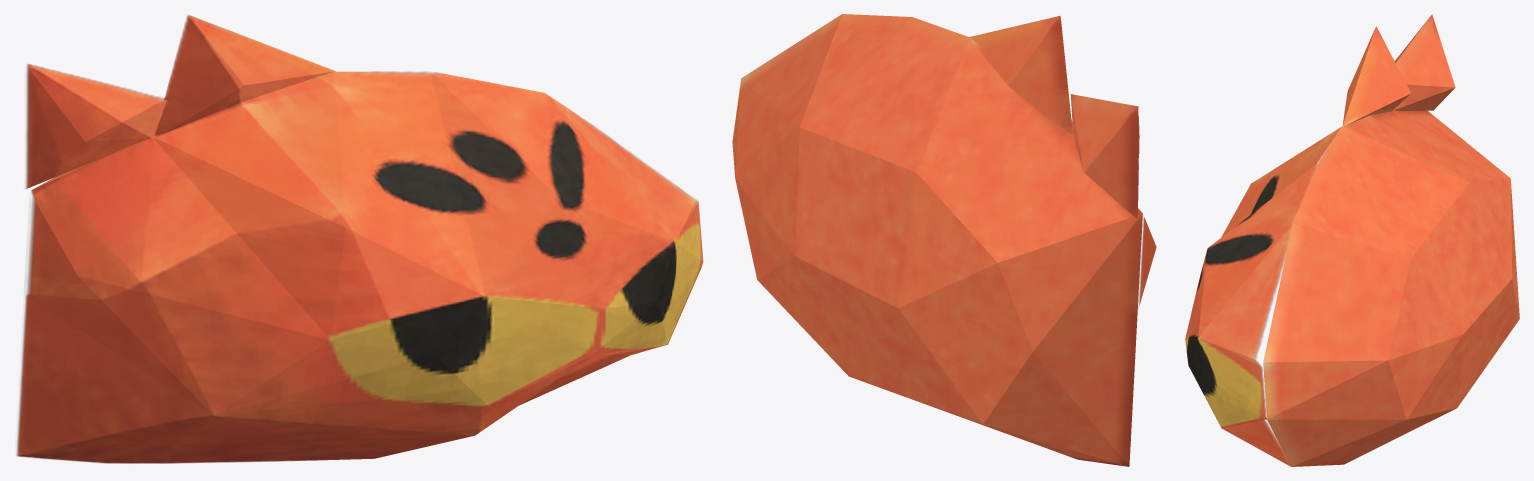
The model's file is manool.glb.
3 renders of one model, left to right at view 1: azimuth 30°, elevation 25°; view 2: azimuth 150°, elevation 25°; view 3: azimuth 270°, elevation 25°, orthographic. The views are drawn at different scales.
Visible parts, largest first — view 1: Head — reference facets, Near ear — reference facets, Upper ear — reference facets; view 2: Head — continuous sculpted back, Upper ear — continuous sculpted back, Near ear — continuous sculpted back, Head — reference facets; view 3: Head — continuous sculpted back, Head — reference facets, Near ear — continuous sculpted back, Upper ear — continuous sculpted back, Upper ear — reference facets.
Boxes of the visible parts, box(x1,y1,x2,y2) form: Head — reference facets: box(16, 71, 703, 463); Near ear — reference facets: box(26, 64, 168, 188); Upper ear — reference facets: box(154, 15, 335, 135); Head — continuous sculpted back: box(732, 14, 1142, 466); Upper ear — continuous sculpted back: box(969, 15, 1072, 134); Near ear — continuous sculpted back: box(1070, 94, 1138, 219); Head — reference facets: box(1071, 119, 1156, 307); Head — continuous sculpted back: box(1263, 110, 1519, 466); Head — reference facets: box(1185, 126, 1341, 466); Near ear — continuous sculpted back: box(1393, 14, 1455, 110); Upper ear — continuous sculpted back: box(1342, 26, 1411, 126); Upper ear — reference facets: box(1342, 28, 1375, 125).
Bounding box in the file's own units: 3.82 × 3.08 × 2.57.
Materials: 4 (4 with a texture image).
